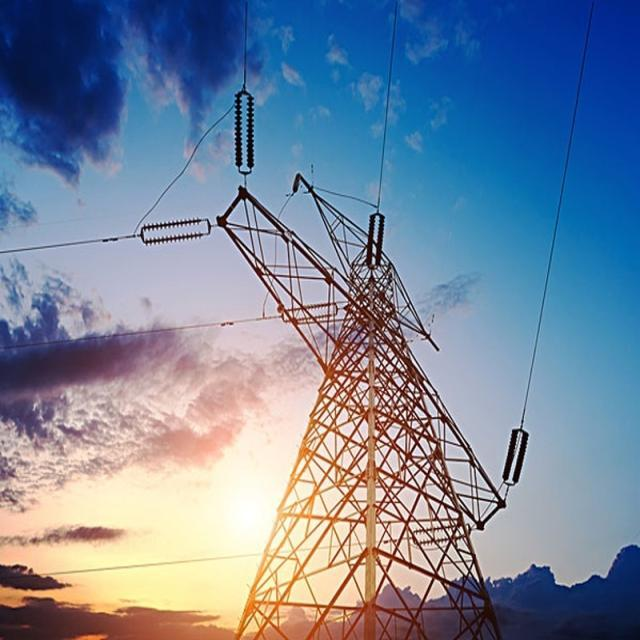non-critical vegetation: (224, 128, 496, 638)
